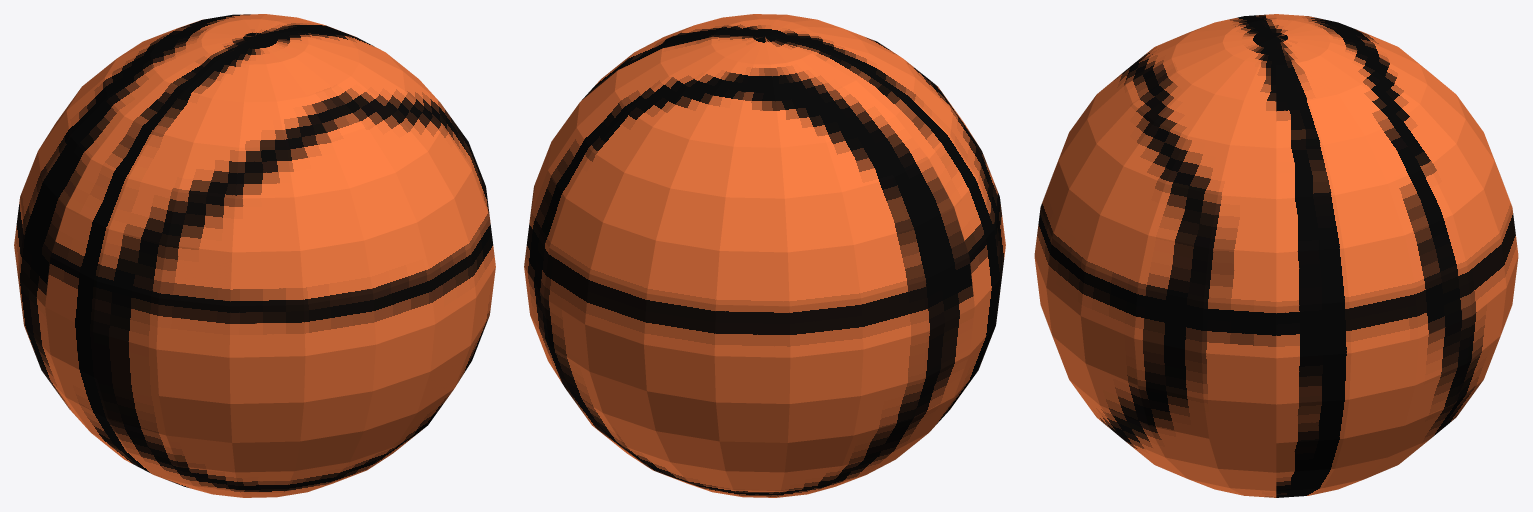
File: bball.fbx
3 renders of one model, left to right at view 1: azimuth 30°, elevation 25°; view 2: azimuth 150°, elevation 25°; view 3: azimuth 270°, elevation 25°, orthographic.
Parts seen in each view (by area): view 1: Sphere; view 2: Sphere; view 3: Sphere.
Boxes of the visible parts, x1,y1,x2,y2 form: Sphere: (14, 14, 495, 497); Sphere: (524, 14, 1005, 497); Sphere: (1034, 14, 1518, 497).
Bounding box in the file's own units: 200 × 200 × 200.
